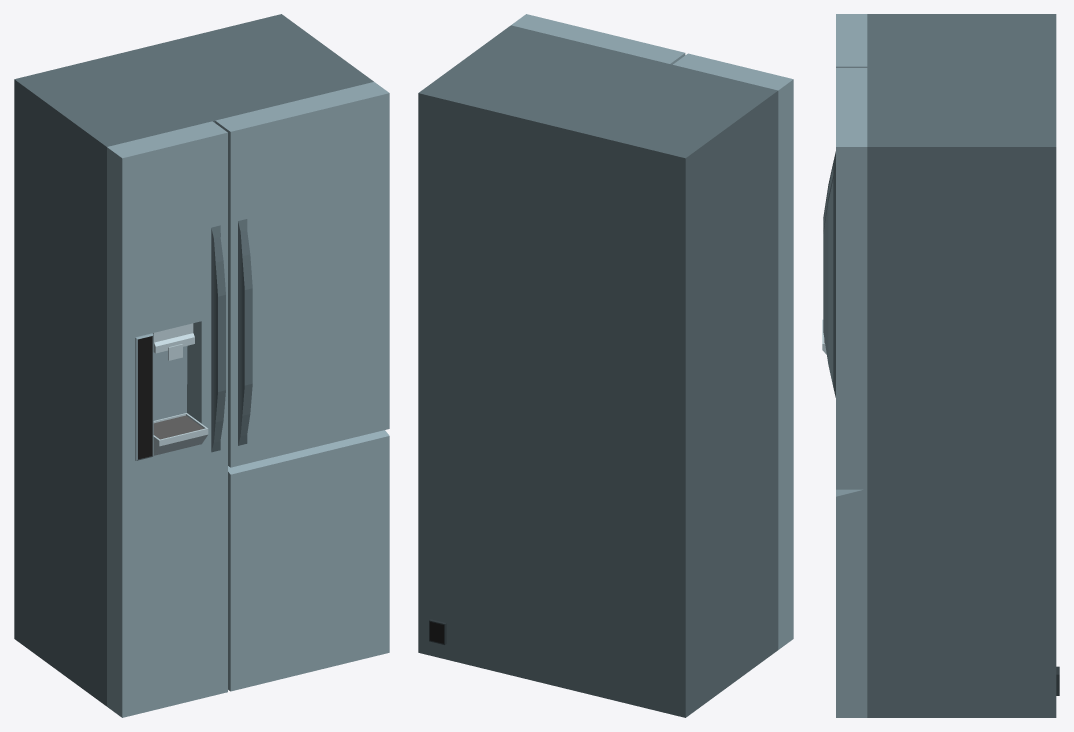
Rendered from double_firdge.glb.
3 views of the same model, side by side, from view 1: azimuth 30°, elevation 25°; view 2: azimuth 150°, elevation 25°; view 3: azimuth 270°, elevation 25° (orthographic). The views are drawn at different scales.
Parts seen in each view (by area): view 1: Low Poly Double Firdge, KA-F1000_DoubleFridge_V1_FrezzerDoor, KA-F1000_DoubleFridge_V1_DoorInDoor, KA-F1000_DoubleFridge_V1_Door; view 2: Low Poly Double Firdge, KA-F1000_DoubleFridge_V1_FrezzerDoor, KA-F1000_DoubleFridge_V1_DoorInDoor; view 3: Low Poly Double Firdge, KA-F1000_DoubleFridge_V1_DoorInDoor, KA-F1000_DoubleFridge_V1_Door, KA-F1000_DoubleFridge_V1_FrezzerDoor.
Boxes of the visible parts, box(x1,y1,x2,y2) form: Low Poly Double Firdge: box(14, 14, 373, 706); KA-F1000_DoubleFridge_V1_FrezzerDoor: box(107, 121, 227, 717); KA-F1000_DoubleFridge_V1_DoorInDoor: box(216, 83, 389, 467); KA-F1000_DoubleFridge_V1_Door: box(215, 82, 389, 691); Low Poly Double Firdge: box(418, 25, 778, 717); KA-F1000_DoubleFridge_V1_FrezzerDoor: box(673, 53, 793, 649); KA-F1000_DoubleFridge_V1_DoorInDoor: box(512, 14, 685, 64); Low Poly Double Firdge: box(867, 14, 1059, 717); KA-F1000_DoubleFridge_V1_DoorInDoor: box(823, 68, 864, 489); KA-F1000_DoubleFridge_V1_Door: box(836, 68, 867, 717); KA-F1000_DoubleFridge_V1_FrezzerDoor: box(822, 14, 867, 354).
Size of the model in its own units: 1 by 2 by 0.7538.
1 material, 1 textured.
